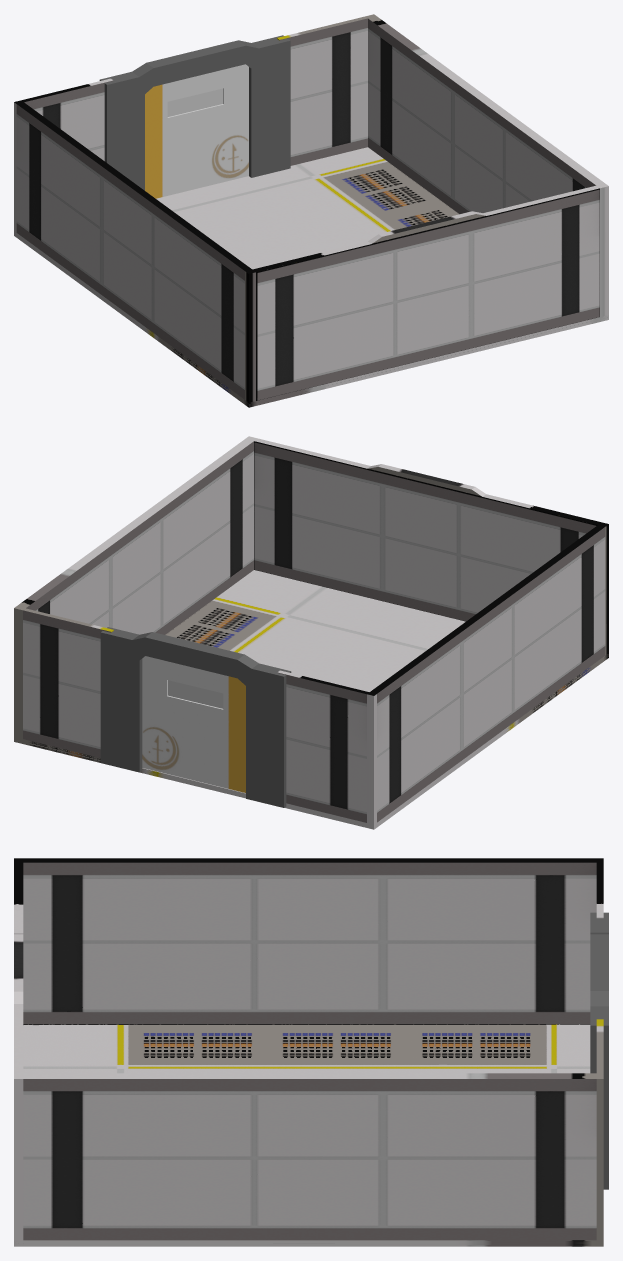
Rendered from Armory.glb.
3 renders of one model, top to bottom at view 1: azimuth 30°, elevation 25°; view 2: azimuth 150°, elevation 25°; view 3: azimuth 270°, elevation 25°, orthographic. The views are drawn at different scales.
Parts seen in each view (by area): view 1: Walls -col, door, InnerDoor; view 2: Walls -col, door, InnerDoor; view 3: Walls -col, door.
Boxes of the visible parts, left/top/right/bottom form: Walls -col: left=14, top=14, right=608, bottom=407; door: left=99, top=35, right=290, bottom=190; InnerDoor: left=145, top=64, right=248, bottom=198; Walls -col: left=14, top=436, right=608, bottom=829; door: left=100, top=627, right=291, bottom=807; InnerDoor: left=142, top=656, right=245, bottom=792; Walls -col: left=14, top=858, right=603, bottom=1246; door: left=590, top=912, right=608, bottom=1189.
Size of the model in its own units: 7.85 by 2.89 by 8.94.
5 materials, 3 textured.
